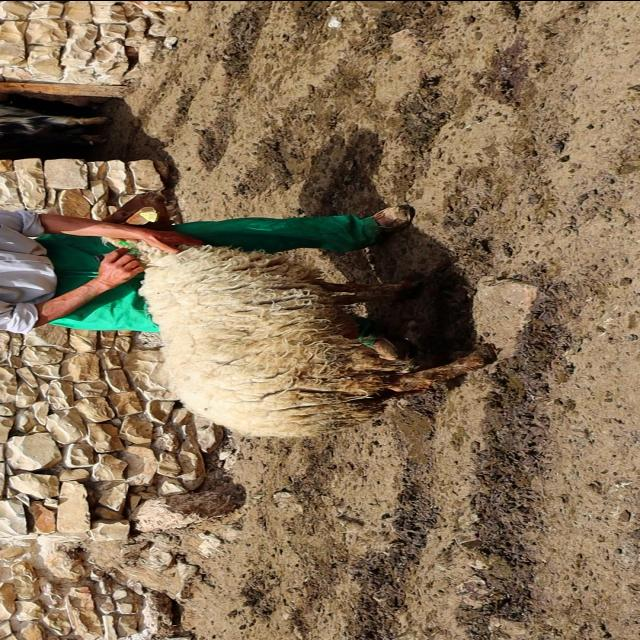Score_4: (103, 236, 491, 436)
